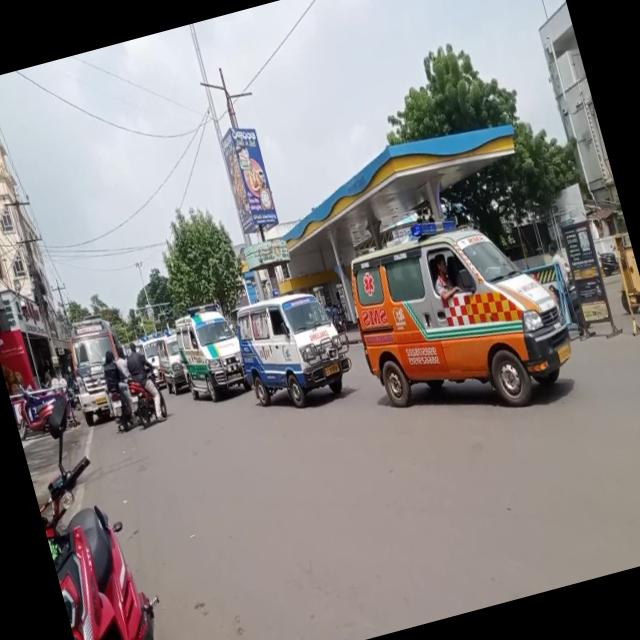ambulance: (330, 204, 581, 442), (222, 276, 362, 446), (58, 316, 140, 438), (174, 298, 241, 408), (140, 321, 189, 397)
